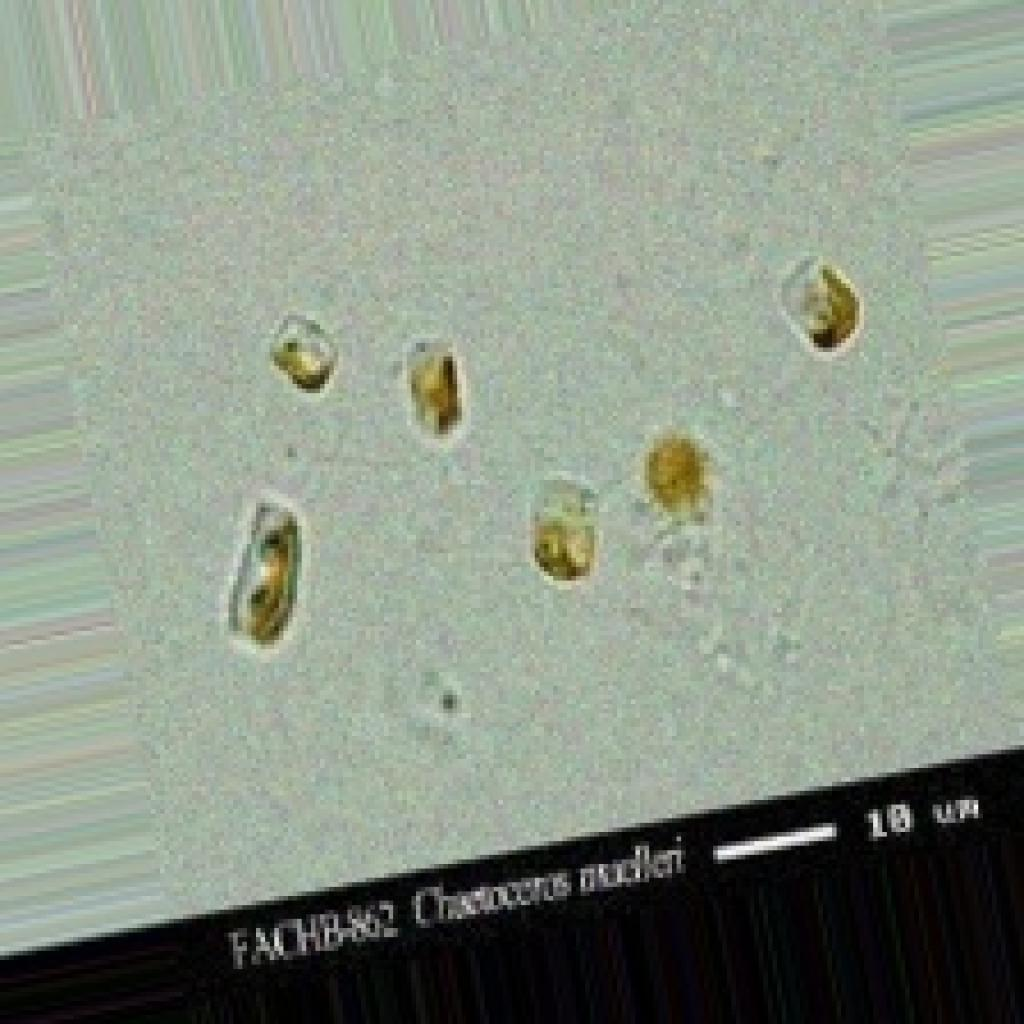Microalgae: (184, 448, 350, 700), (727, 240, 922, 419), (382, 318, 513, 492), (628, 402, 767, 564), (238, 270, 372, 429), (525, 440, 631, 632)
